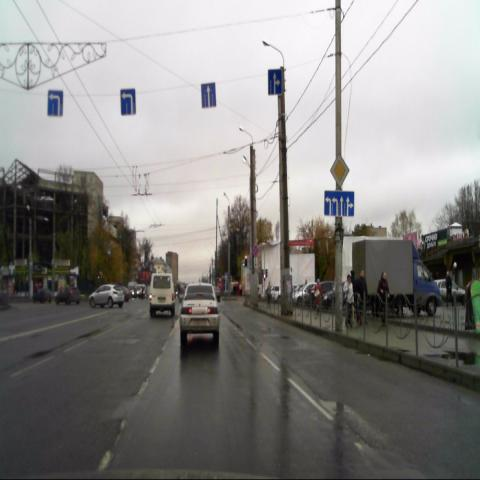5_15_2: (268, 69, 282, 95)
